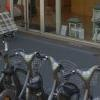Bicycle: (2, 38, 89, 100)
